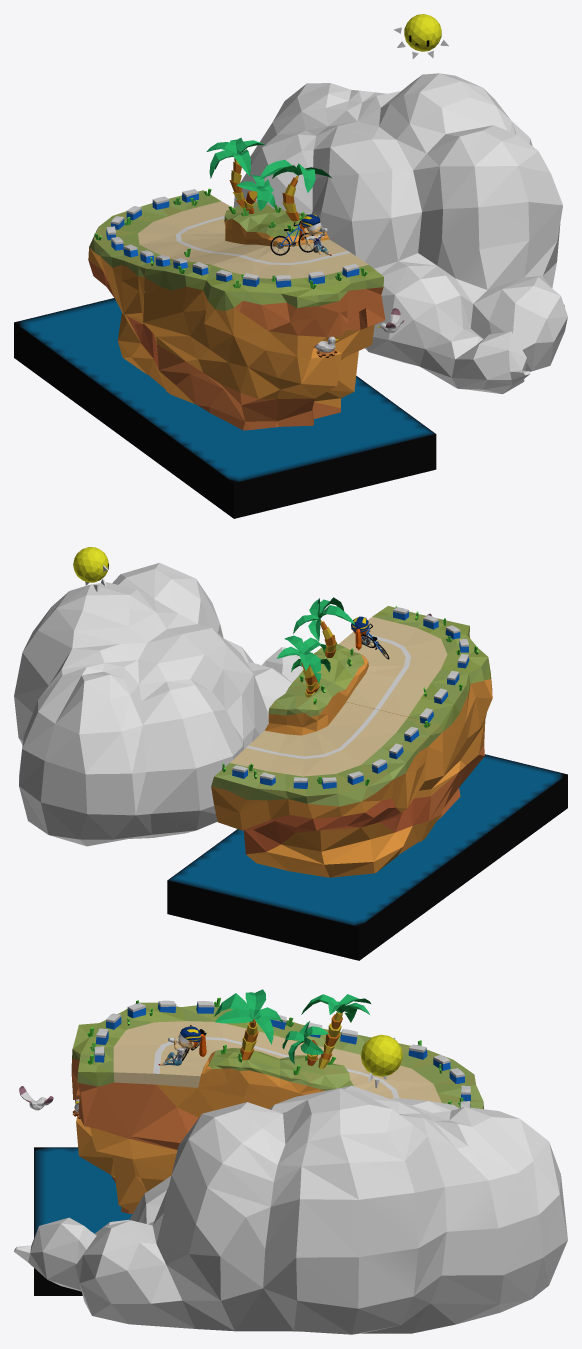
The model's file is 0078_Lucy_riding.fbx.
3 views of the same model, one above another, from view 1: azimuth 30°, elevation 25°; view 2: azimuth 150°, elevation 25°; view 3: azimuth 270°, elevation 25° (orthographic). The views are drawn at different scales.
Parts seen in each view (by area): view 1: cloud, Ground_1, [water], Ground_2, Sun, Palm_B; view 2: cloud, Ground_2, [water], Ground_1, Sun; view 3: cloud, Ground_1, Ground_2, [water], Sun, Palm_B, Palm_C, Palm_A.
Boxes of the visible parts, x1,y1,x2,y2 form: cloud: (233, 73, 567, 394); Ground_1: (143, 213, 385, 430); [water]: (14, 298, 436, 518); Ground_2: (88, 190, 287, 389); Sun: (393, 14, 448, 58); Palm_B: (236, 175, 275, 210); cloud: (14, 563, 303, 846); Ground_2: (211, 672, 443, 877); [water]: (167, 754, 567, 960); Ground_1: (302, 606, 492, 840); Sun: (73, 547, 108, 591); cloud: (14, 1085, 567, 1334); Ground_1: (71, 1002, 279, 1214); Ground_2: (280, 1020, 483, 1109); [water]: (34, 1147, 132, 1295); Sun: (360, 1034, 402, 1088); Palm_B: (282, 1021, 328, 1064); Palm_C: (318, 1012, 342, 1068); Palm_A: (240, 1018, 258, 1060).
Size of the model in its own units: 28.39 by 19.26 by 28.71.
